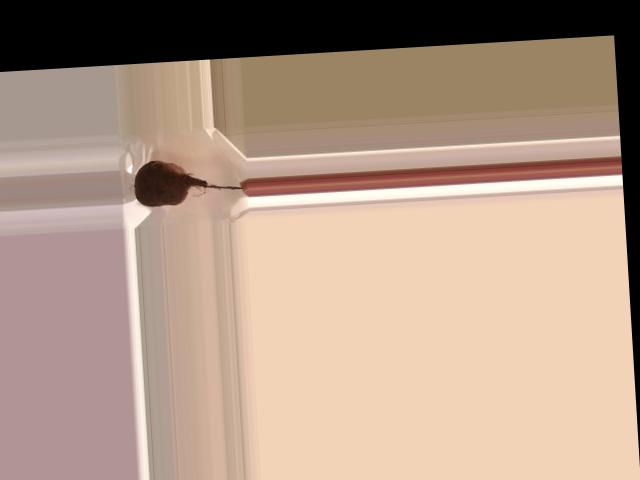beet: (132, 154, 244, 207)
